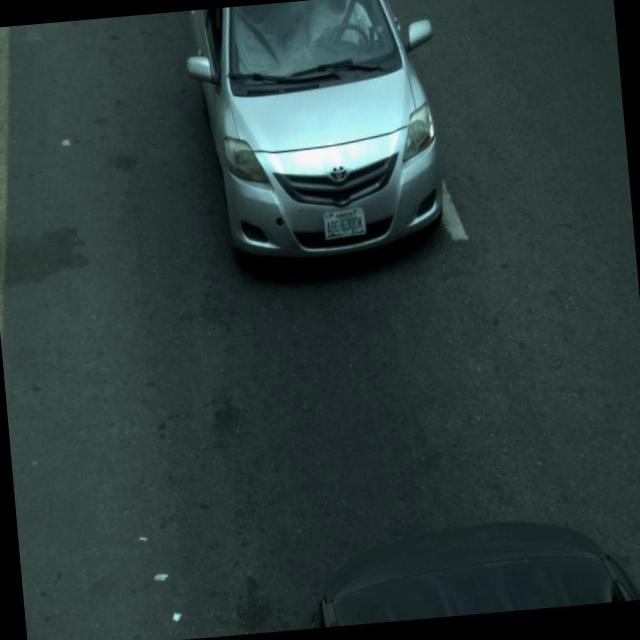person_with_seatbelt: (304, 0, 385, 69)
